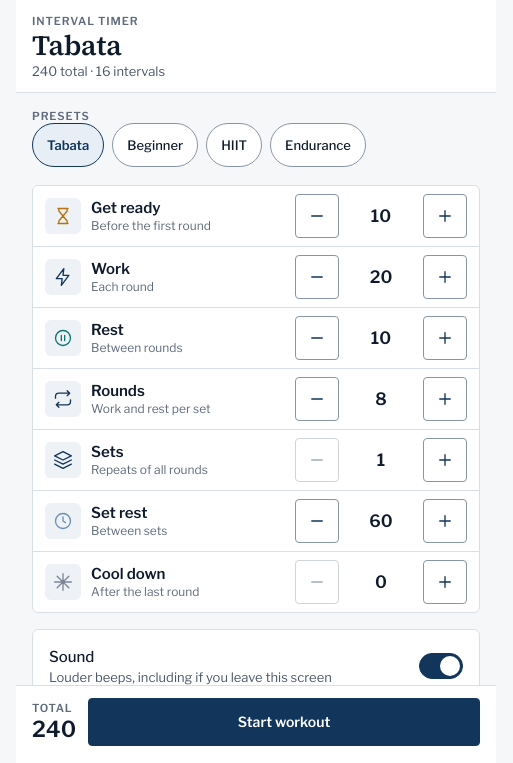
Test: app › pauses without losing time, then resets
This screenshot has width=513, height=763.
Click the button "Start workout" at (284, 722), box x1=88 y1=698 x2=480 y2=746
Wait 3000 ms
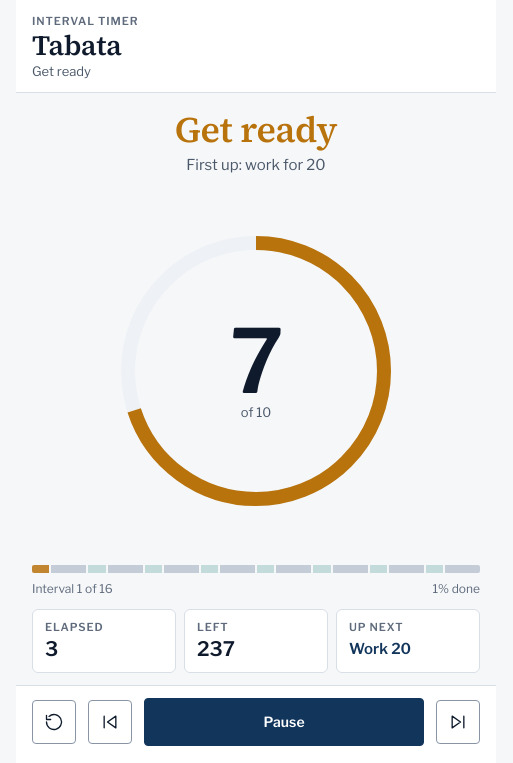
expect the text "7" is shown: met, box x1=230 y1=320 x2=282 y2=404
Click the button "Pause" at (284, 722), box x1=144 y1=698 x2=424 y2=746
Wait 5000 ms
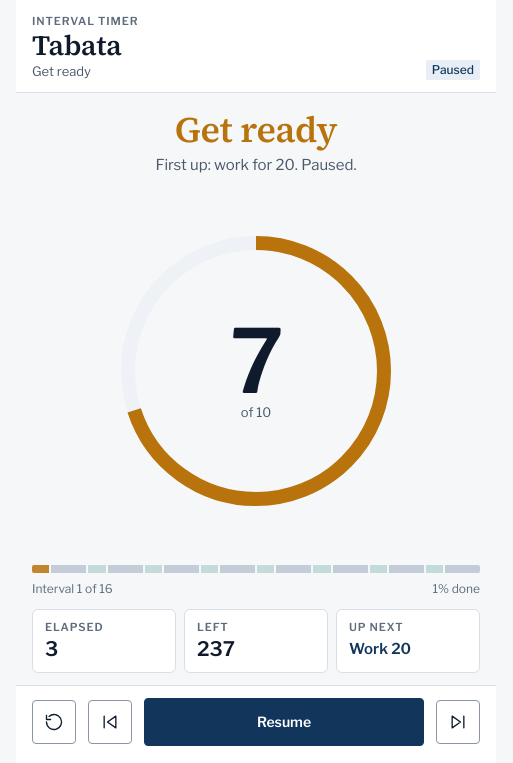
expect the text "7" is shown: met, box x1=230 y1=320 x2=282 y2=404
expect the text "Paused" is shown: met, box x1=426 y1=60 x2=480 y2=80
Click the button "Resume" at (284, 722), box x1=144 y1=698 x2=424 y2=746
Wait 1000 ms
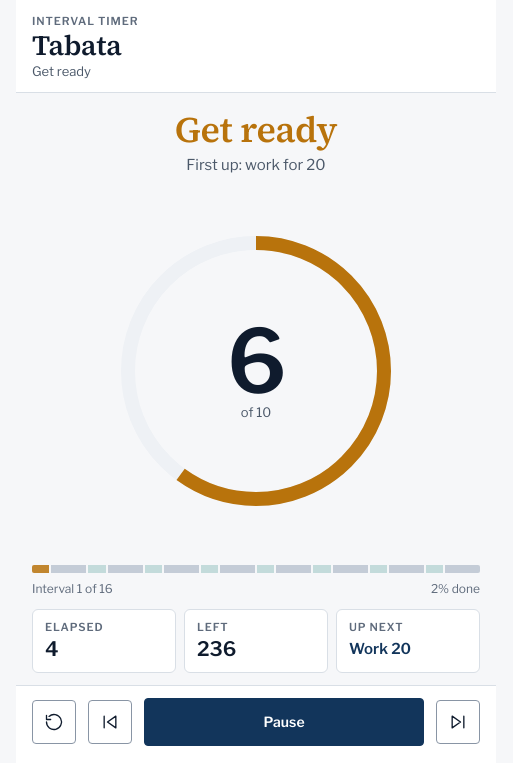
expect the text "6" is shown: met, box x1=227 y1=320 x2=285 y2=404
Click the button named "Reset workout" at (54, 722), box x1=32 y1=700 x2=76 y2=744
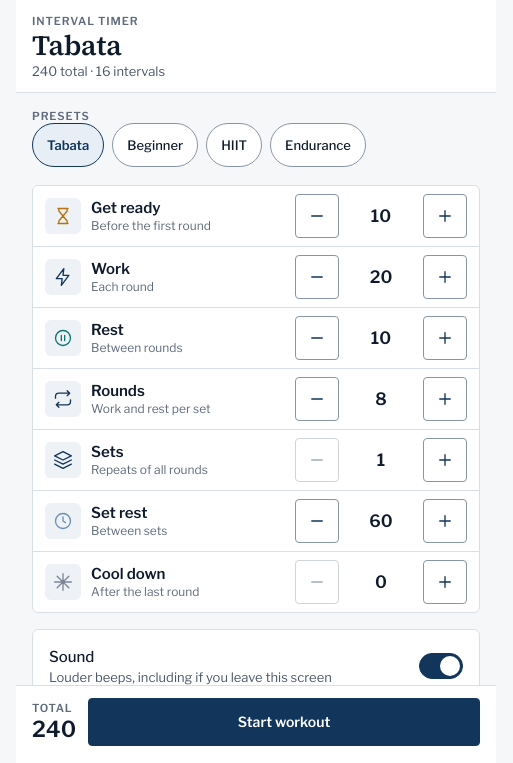
expect the button "Start workout" is shown: met, box x1=88 y1=698 x2=480 y2=746
expect the text "240 total · 16 intervals" is shown: met, box x1=32 y1=62 x2=165 y2=80
